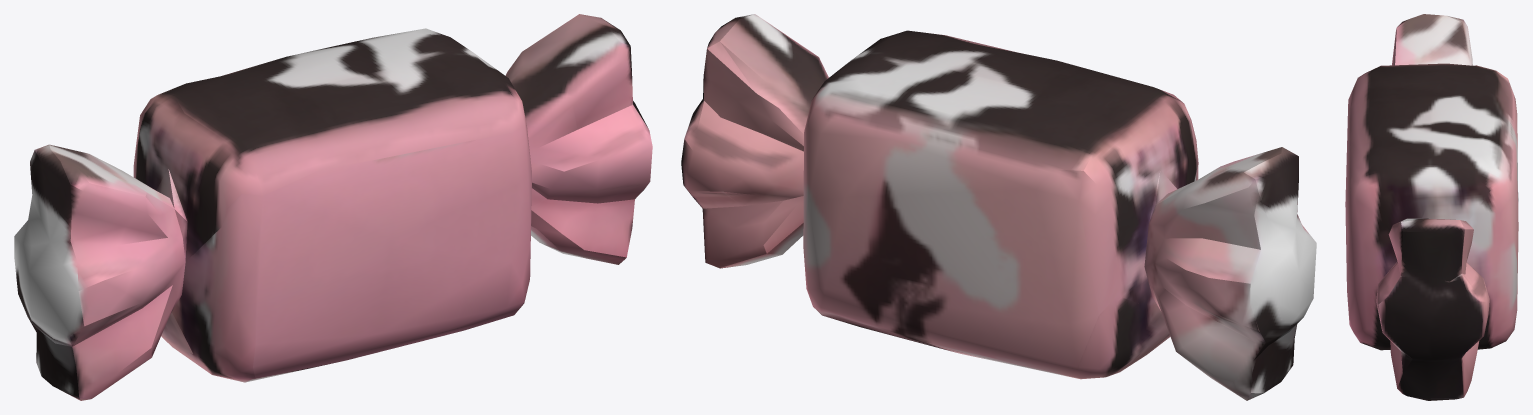
The model's file is WrappedCandy.obj.
3 renders of one model, left to right at view 1: azimuth 30°, elevation 25°; view 2: azimuth 150°, elevation 25°; view 3: azimuth 270°, elevation 25°, orthographic. The views are drawn at different scales.
Parts seen in each view (by area): view 1: input; view 2: input; view 3: input.
Boxes of the visible parts, x1=… form: input: x1=14, y1=14, x2=652, y2=400; input: x1=681, y1=14, x2=1316, y2=400; input: x1=1345, y1=14, x2=1518, y2=400.
Size of the model in its own units: 2.5 by 0.9642 by 0.7996.
1 material, 1 textured.
